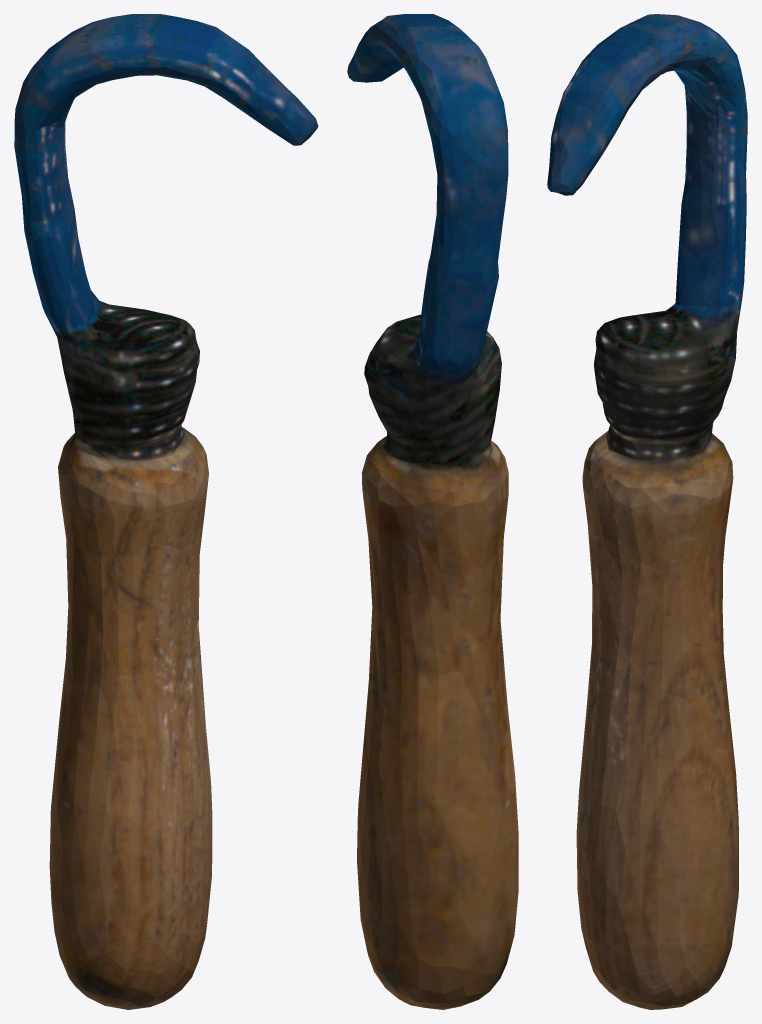
3 renders of one model, left to right at view 1: azimuth 30°, elevation 25°; view 2: azimuth 150°, elevation 25°; view 3: azimuth 270°, elevation 25°, orthographic.
Parts seen in each view (by area): view 1: Tueroeffner_2k_2k; view 2: Tueroeffner_2k_2k; view 3: Tueroeffner_2k_2k.
Part boxes in pixels (box(x1,y1,x2,y2)): Tueroeffner_2k_2k: box(14, 14, 318, 1009); Tueroeffner_2k_2k: box(347, 14, 518, 1009); Tueroeffner_2k_2k: box(547, 14, 747, 1009).
Bounding box in the file's own units: 0.0404 × 0.1654 × 0.0308.
Materials: 1 (1 with a texture image).
